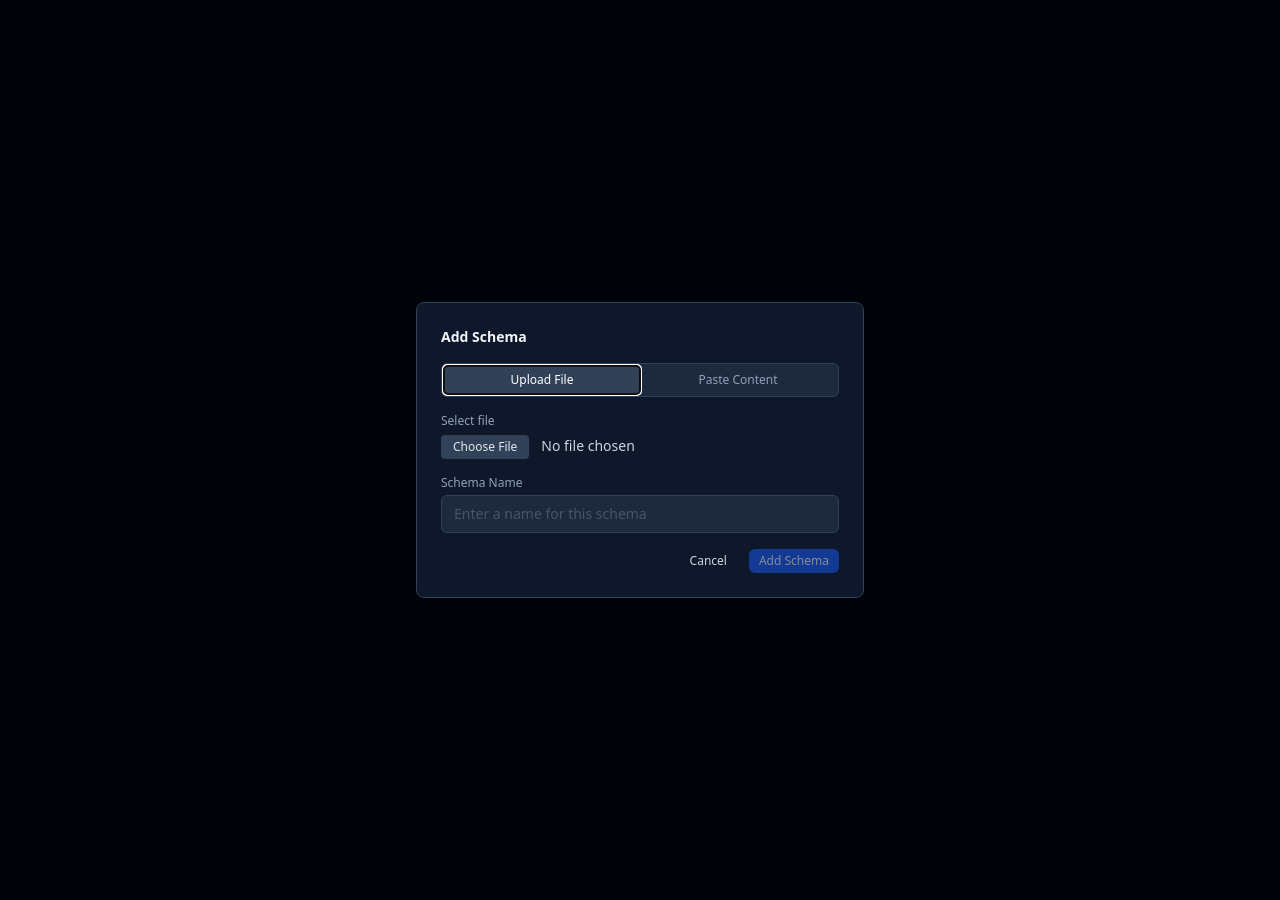
Test: SchemaUploadDialog — mode toggle › clicking Upload File restores file input after switching to paste
Click the tab with test id "mode-tab-paste": (738, 380) top-left (640, 366), bottom-right (836, 394)
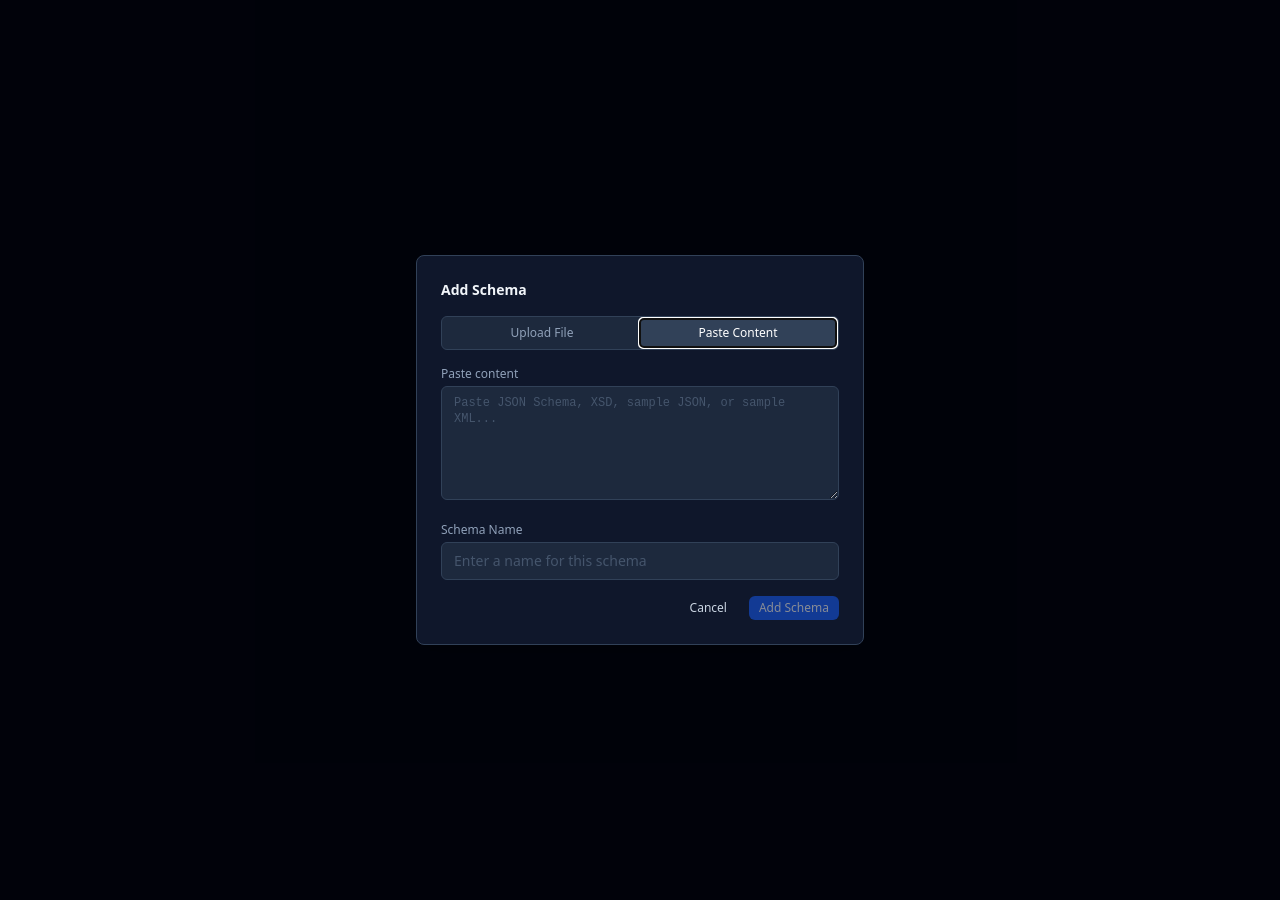
Click the tab with test id "mode-tab-file": (542, 333) top-left (444, 319), bottom-right (640, 347)
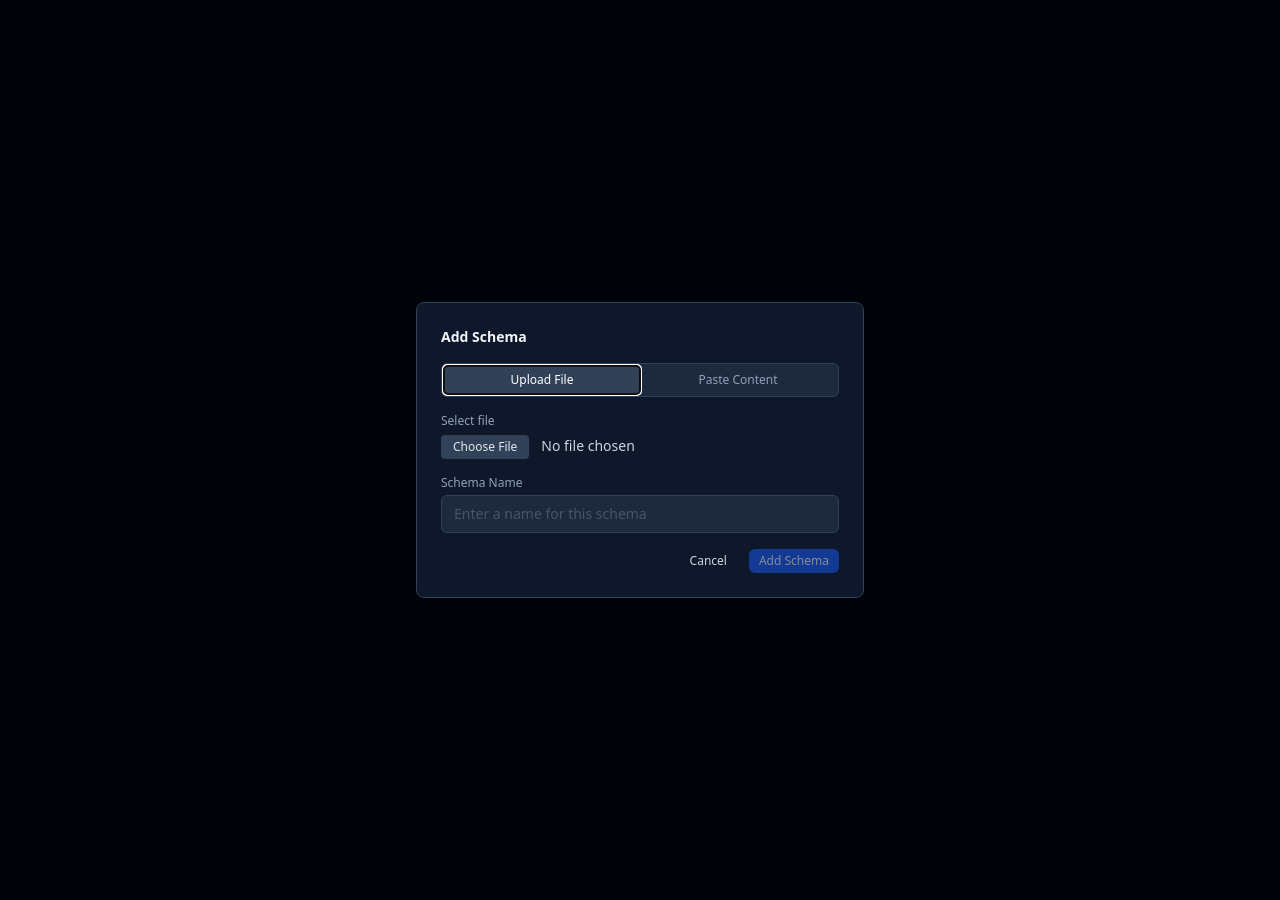
Now the file field with test id "file-input" is shown, box top-left (441, 435), bottom-right (839, 459)
Now the text box with test id "paste-input" is gone
